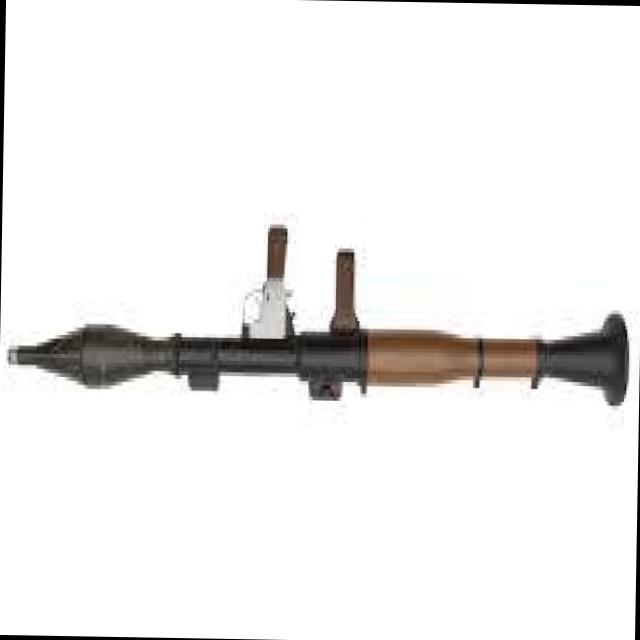Gun: (0, 238, 626, 454)
